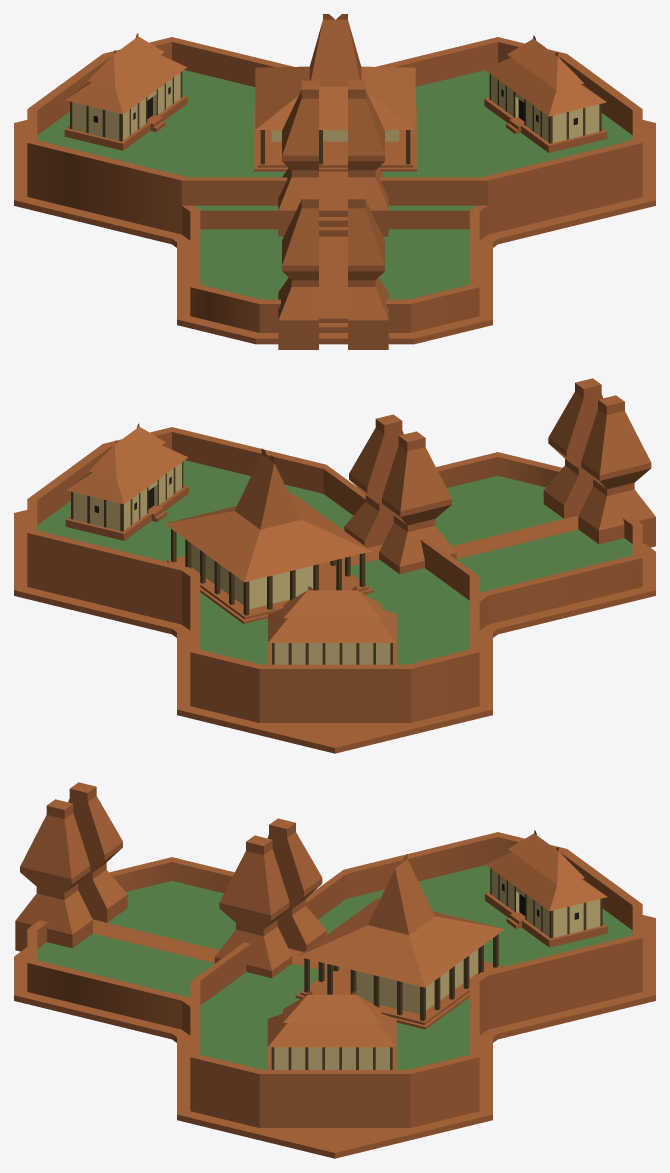
File: MJ_Building_Palace.fbx
3 views of the same model, one above another, from view 1: azimuth 30°, elevation 25°; view 2: azimuth 150°, elevation 25°; view 3: azimuth 270°, elevation 25° (orthographic).
Visible parts, largest first — view 1: Group1, Group6, Group2, Group5, Group3, Group27, Group4, Group28; view 2: Group1, Group6, Group2, Group5, Group27, Group3, Group4, Group28; view 3: Group1, Group6, Group2, Group5, Group3, Group27, Group28, Group4.
Boxes of the visible parts, left/top/right/bottom form: Group1: left=14, top=37, right=655, bottom=344; Group6: left=254, top=14, right=416, bottom=171; Group2: left=278, top=190, right=388, bottom=349; Group5: left=278, top=80, right=388, bottom=236; Group3: left=64, top=55, right=187, bottom=150; Group27: left=484, top=57, right=607, bottom=152; Group4: left=87, top=33, right=164, bottom=87; Group28: left=507, top=35, right=583, bottom=90; Group1: left=14, top=427, right=655, bottom=753; Group6: left=164, top=448, right=373, bottom=623; Group2: left=543, top=378, right=655, bottom=547; Group5: left=344, top=414, right=456, bottom=574; Group27: left=65, top=445, right=188, bottom=540; Group3: left=268, top=609, right=396, bottom=664; Group4: left=283, top=586, right=381, bottom=618; Group28: left=88, top=423, right=165, bottom=478; Group1: left=14, top=832, right=655, bottom=1158; Group6: left=295, top=854, right=504, bottom=1029; Group2: left=15, top=782, right=127, bottom=951; Group5: left=214, top=818, right=326, bottom=977; Group3: left=485, top=852, right=607, bottom=947; Group27: left=267, top=1013, right=396, bottom=1069; Group28: left=283, top=991, right=381, bottom=1022; Group4: left=508, top=830, right=584, bottom=884.
Size of the model in its own units: 10.32 by 2.82 by 10.24.
